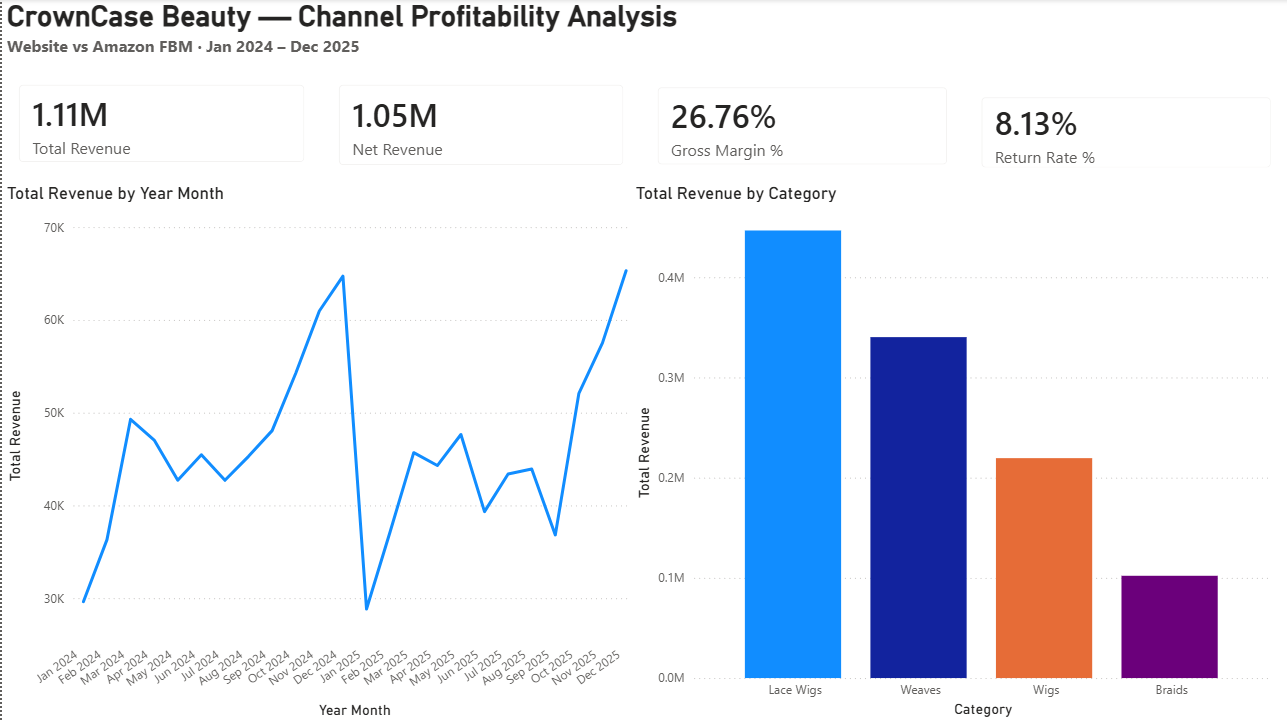

The page's visual inventory and layout, read from the dashboard file:
{"tool":"powerbi","page":{"name":"Executive Summary","canvas":[1280,720],"ordinal":0},"visuals":[{"type":"cardVisual","fields":{"Data":["_Measures.Total Revenue"]},"box":[0,68.4,318.5,112],"z":0},{"type":"cardVisual","fields":{"Data":["_Measures.Net Revenue"]},"box":[318.5,68.4,317.2,114.4],"z":1000},{"type":"cardVisual","fields":{"Data":["_Measures.Gross Margin %"]},"box":[635.7,70.9,322.2,112],"z":2000},{"type":"cardVisual","fields":{"Data":["_Measures.Return Rate %"]},"box":[957.8,80.9,322.2,104.5],"z":3000},{"type":"lineChart","fields":{"Category":["Dim_Date.Year Month"],"Y":["_Measures.Total Revenue"]},"box":[0,182.9,635.7,537.4],"z":4000},{"type":"columnChart","title":"Total Revenue by Category","fields":{"Category":["Dim_Products.Category"],"Y":["_Measures.Total Revenue"],"Series":["Dim_Products.Category"]},"box":[626.2,183.2,643.5,536.7],"z":5000},{"type":"textbox","title":"CrownCase Beauty — Channel Profitability Analysis","box":[0,0,1270.1,73.4],"z":6000}]}

Visuals, with their boxes in screenshot pixels (x1, y1, x2, y2), scaled from the page's 1280x720 canvas onto the 1287x722 screenshot:
cardVisual - _Measures.Total Revenue: 0, 69, 320, 181
cardVisual - _Measures.Net Revenue: 320, 69, 639, 183
cardVisual - _Measures.Gross Margin %: 639, 71, 963, 183
cardVisual - _Measures.Return Rate %: 963, 81, 1286, 186
lineChart - Dim_Date.Year Month x _Measures.Total Revenue: 0, 183, 639, 721
"Total Revenue by Category" columnChart: 630, 184, 1277, 721
"CrownCase Beauty — Channel Profitability Analysis" textbox: 0, 0, 1277, 74
